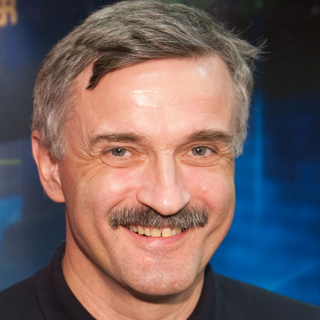eye: (96, 141, 144, 165), (179, 140, 223, 164)
